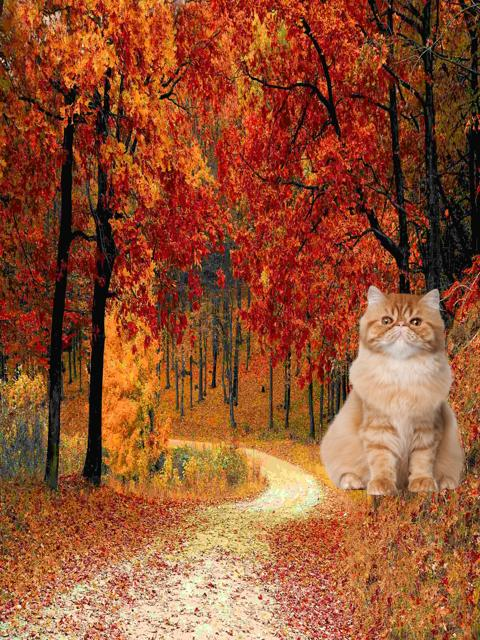cat: (314, 284, 470, 495)
